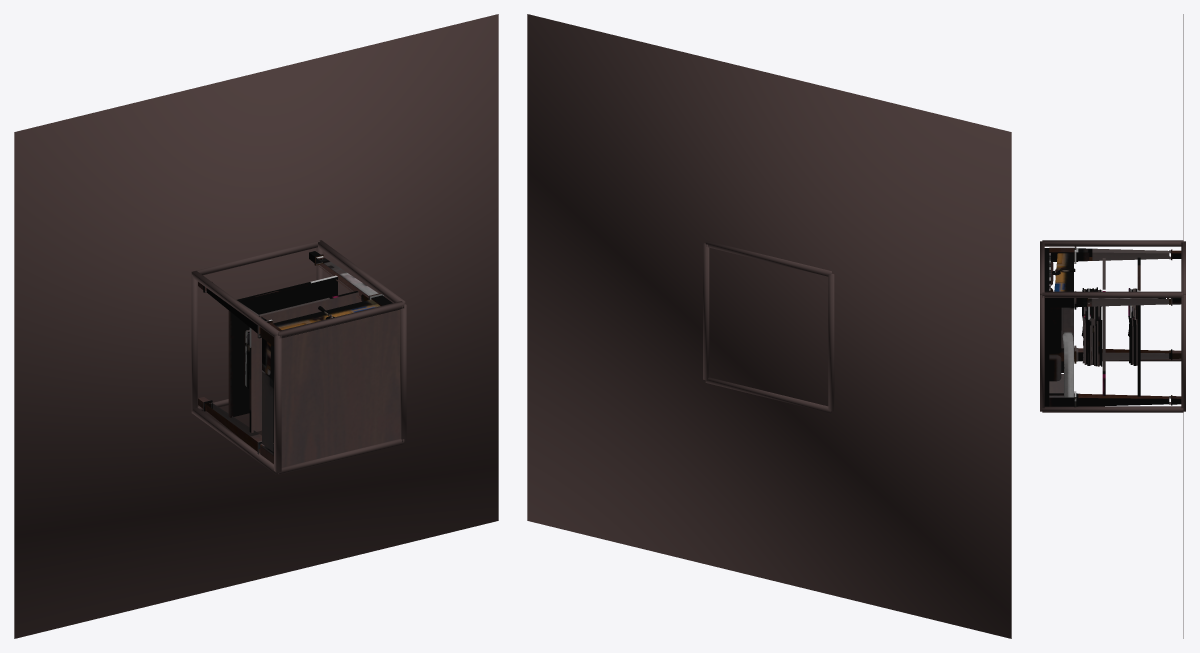
The picture shows the model from 3 angles, left to right: view 1: azimuth 30°, elevation 25°; view 2: azimuth 150°, elevation 25°; view 3: azimuth 270°, elevation 25°; orthographic projection. The views are drawn at different scales.
Bounding box in the file's own units: 2 × 2 × 0.6203.
